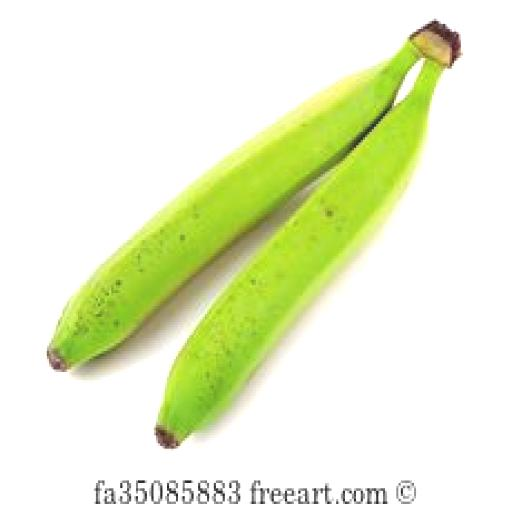banana-unripe: (29, 3, 484, 470)
